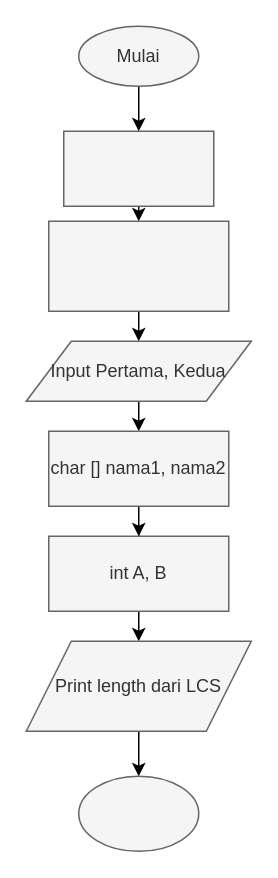
The diagram is 278 pixels wide and 878 high, and some of its shapes have lost their labels. Each missing label, with the centre of its shape:
"int x, y" goes at (x=138, y=168).
"return ( x > y ) ? x : y" goes at (x=138, y=265).
